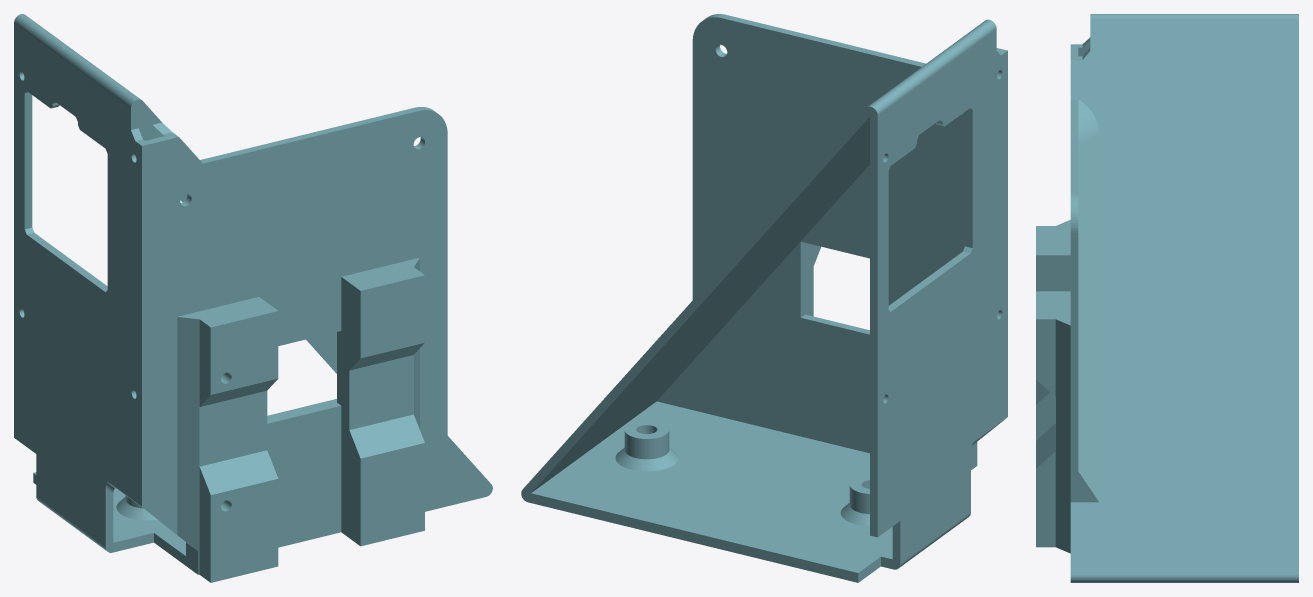
The model's file is wio-slider-holder__v0.glb.
3 renders of one model, left to right at view 1: azimuth 30°, elevation 25°; view 2: azimuth 150°, elevation 25°; view 3: azimuth 270°, elevation 25°, orthographic. The views are drawn at different scales.
Visible parts, largest first — view 1: wio-slider-holder; view 2: wio-slider-holder; view 3: wio-slider-holder.
Boxes of the visible parts, left/top/right/bottom form: wio-slider-holder: left=14, top=14, right=492, bottom=582; wio-slider-holder: left=521, top=14, right=1007, bottom=582; wio-slider-holder: left=1036, top=14, right=1298, bottom=582.
Bounding box in the file's own units: 0.0917 × 0.1178 × 0.0667.
